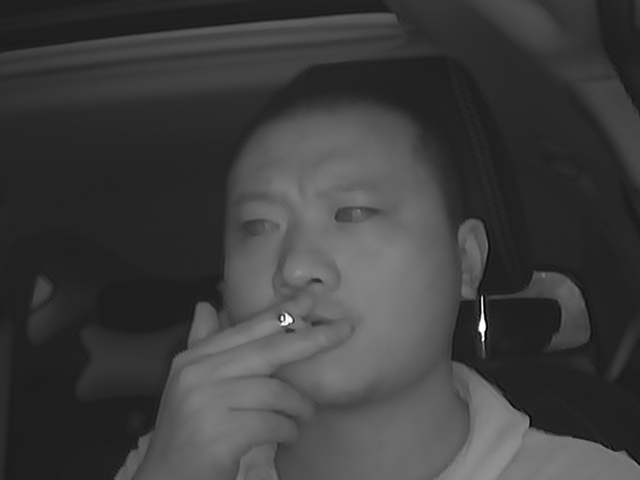hand: (193, 290, 346, 450)
